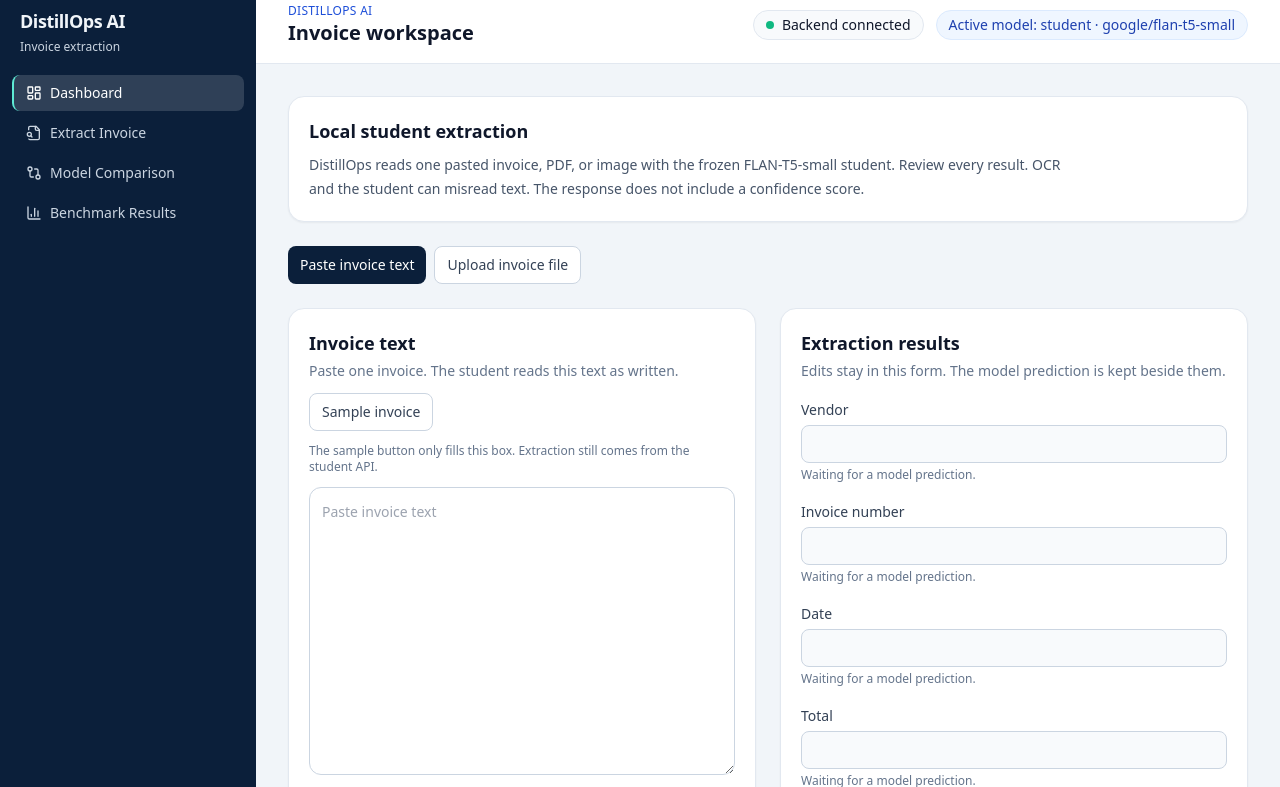
Test: DistillOps workspace › shows the backend error detail
Type "INVOICE" into the text box labelled "invoice text" at (522,631), box [309,487,735,775]
(page scrolled)
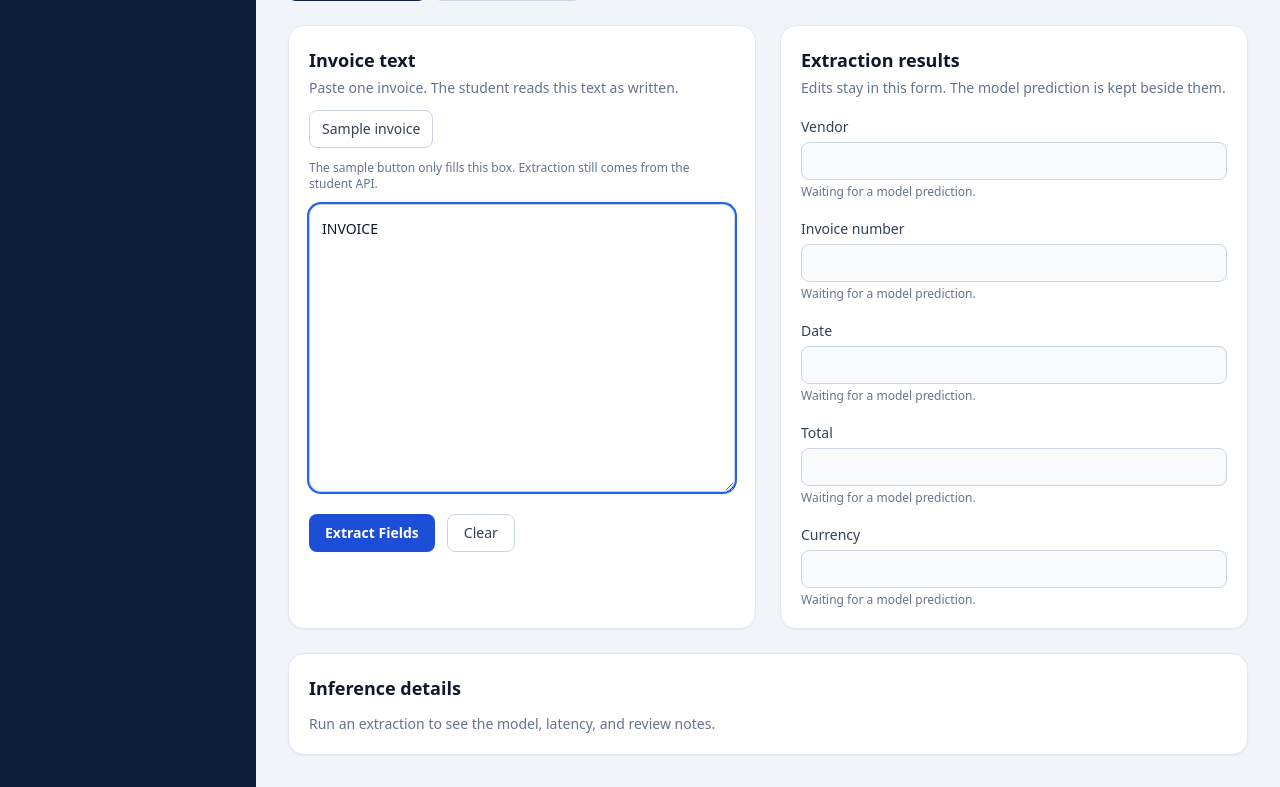
Click the button "Extract Fields" at (372,533), box [309,514,435,552]
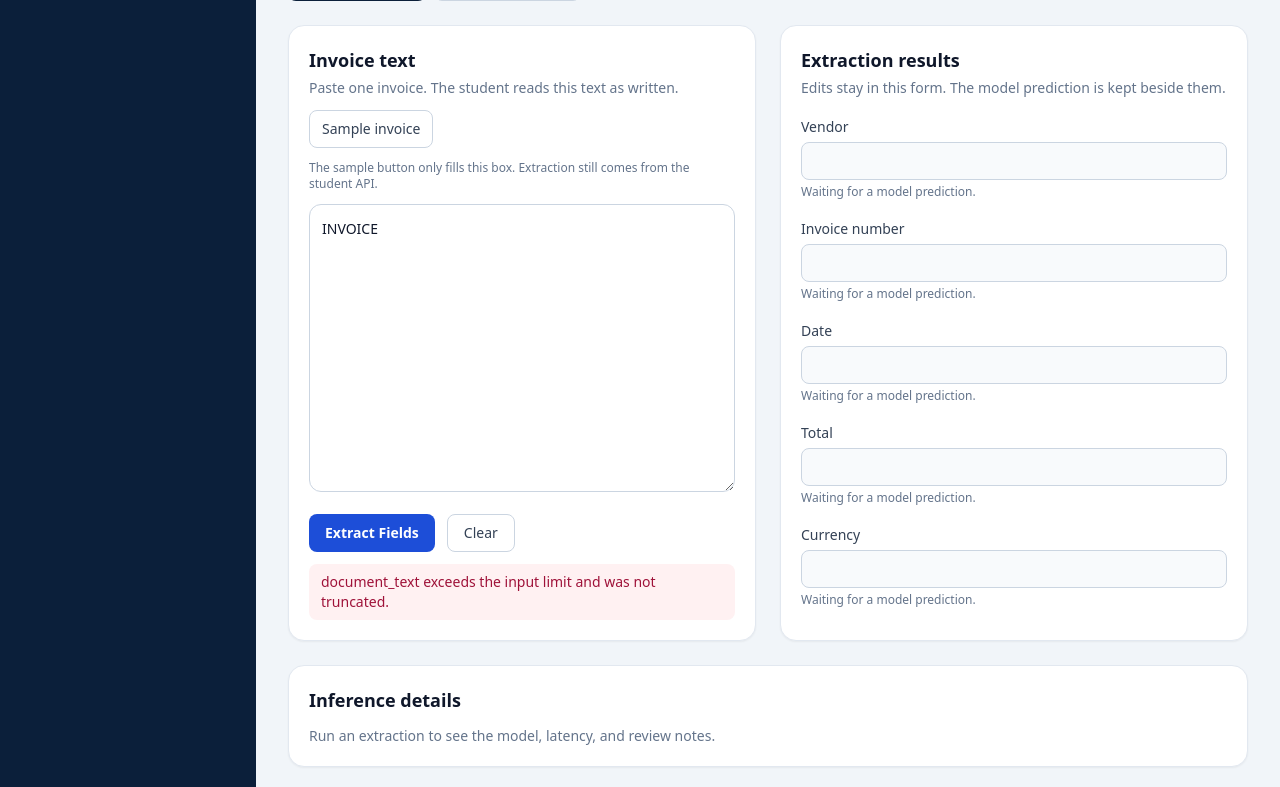
Now the message shows "was not truncated", box [321,572,656,611]
